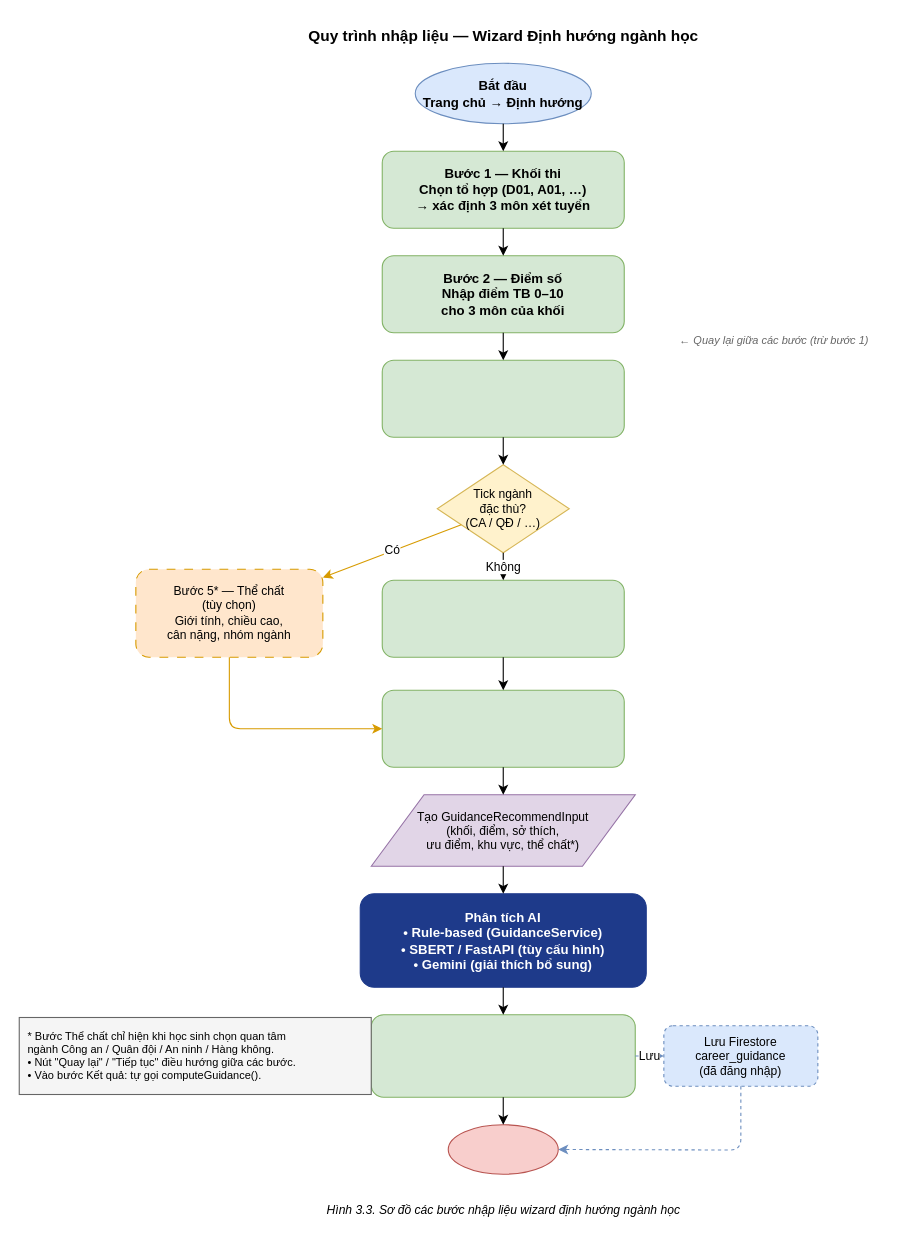
This 903x1247 diagram has some shape labels left out. Each missing label, with the box of its shape:
Bước 3 — Sở thích Chọn 1–3 sở thích (lọc theo khối đã chọn): (381, 359, 624, 437)
Bước 4 — Ưu điểm Chọn 2–3 kỹ năng (logic, giao tiếp, …): (381, 579, 624, 657)
Bước 5/6 — Khu vực Chọn miền muốn học (Bắc / Trung / Nam): (381, 689, 624, 767)
Bước cuối — Kết quả Top ngành, trường, điểm phù hợp Nút "Lưu kết quả" (F06): (370, 1014, 635, 1097)
Kết thúc: (447, 1124, 558, 1174)
